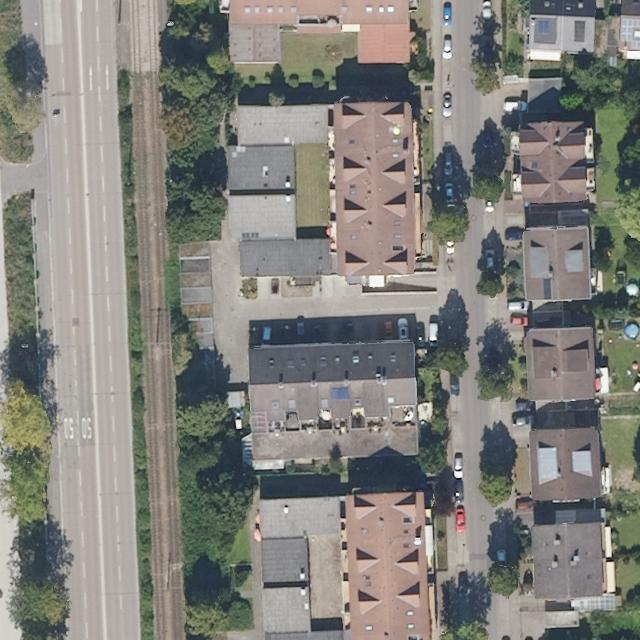PV: (619, 17, 639, 49)
